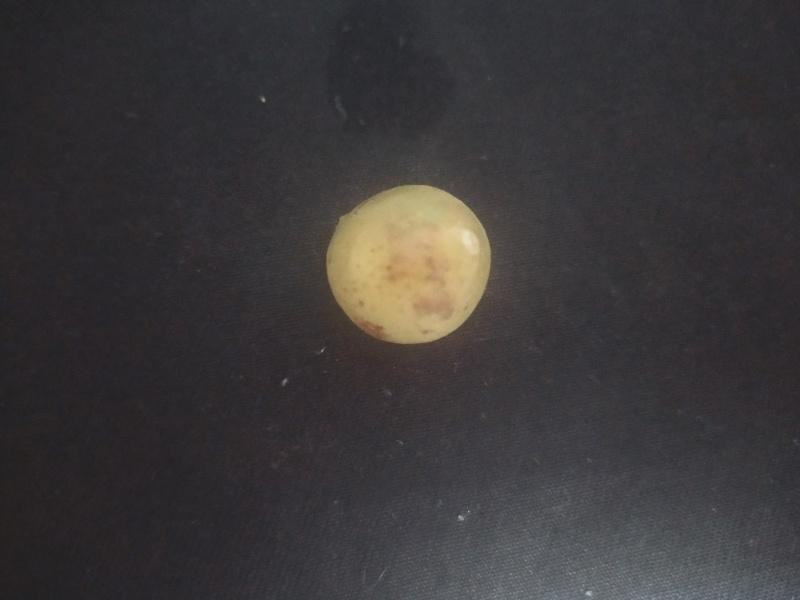Grape Rotten: (324, 181, 493, 346)
